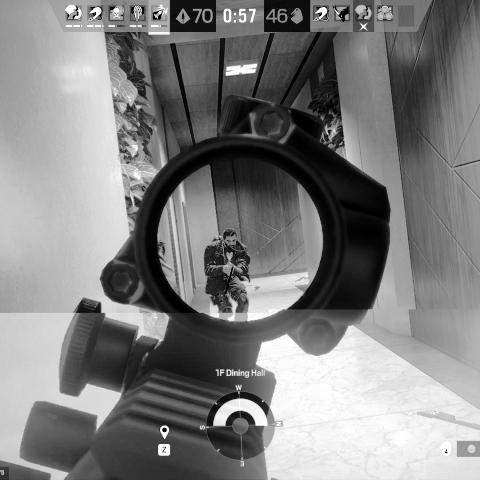Character: (201, 227, 253, 322)
Head: (224, 226, 238, 244)
